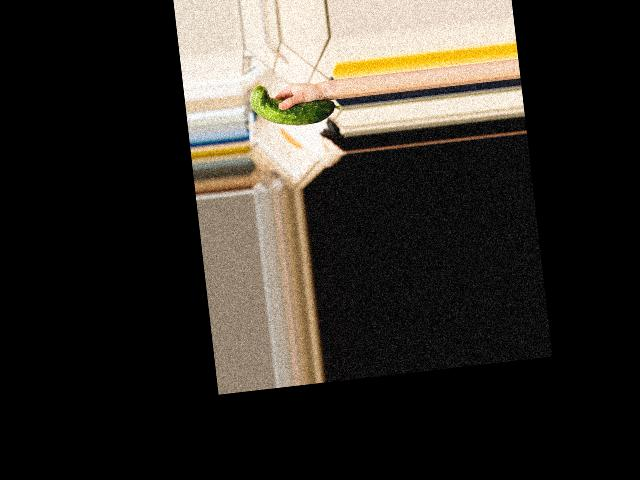cucumber: (248, 76, 342, 131)
